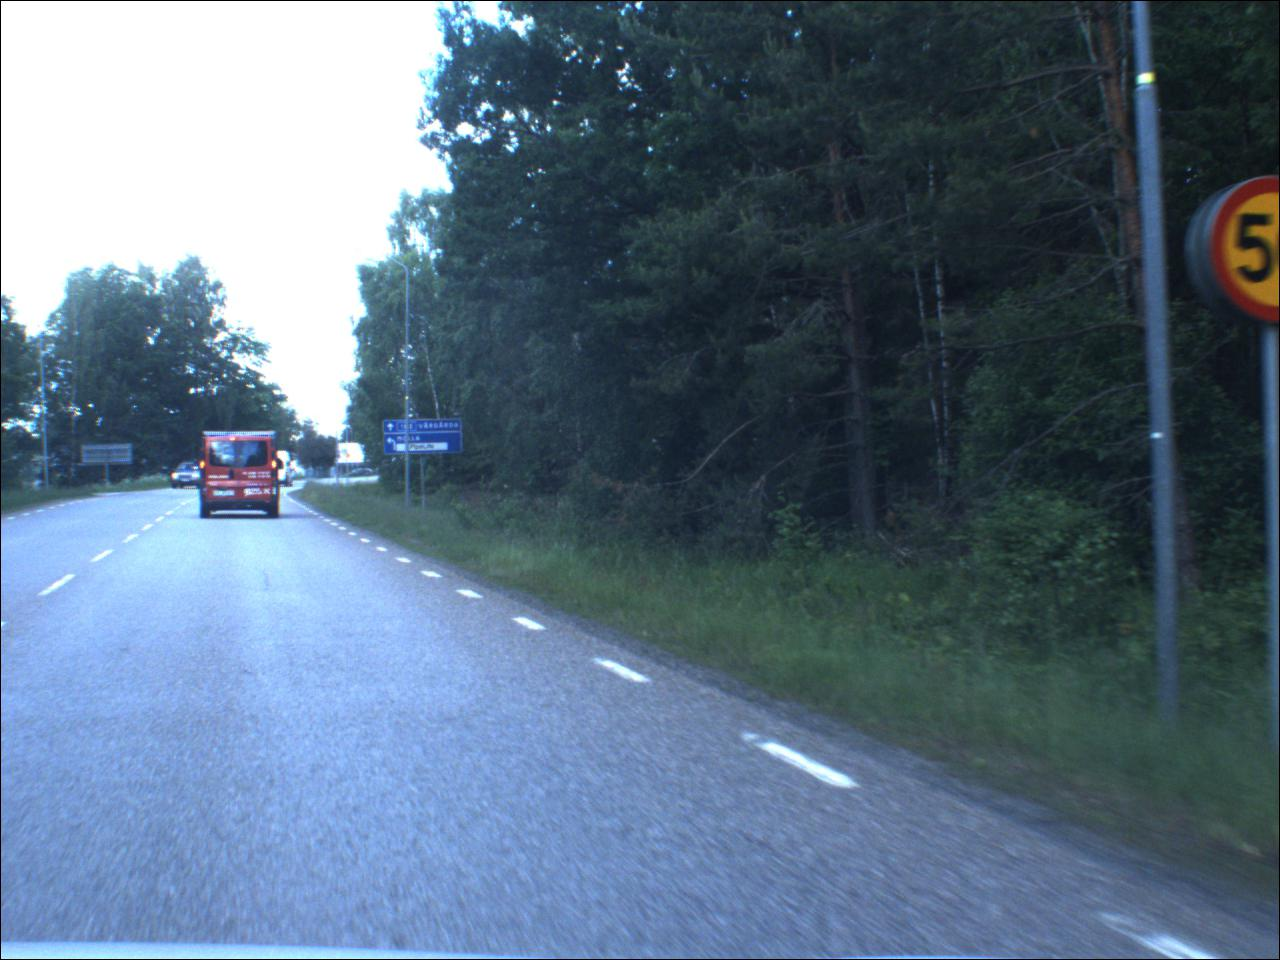50_SIGN: (1209, 175, 1278, 328)
